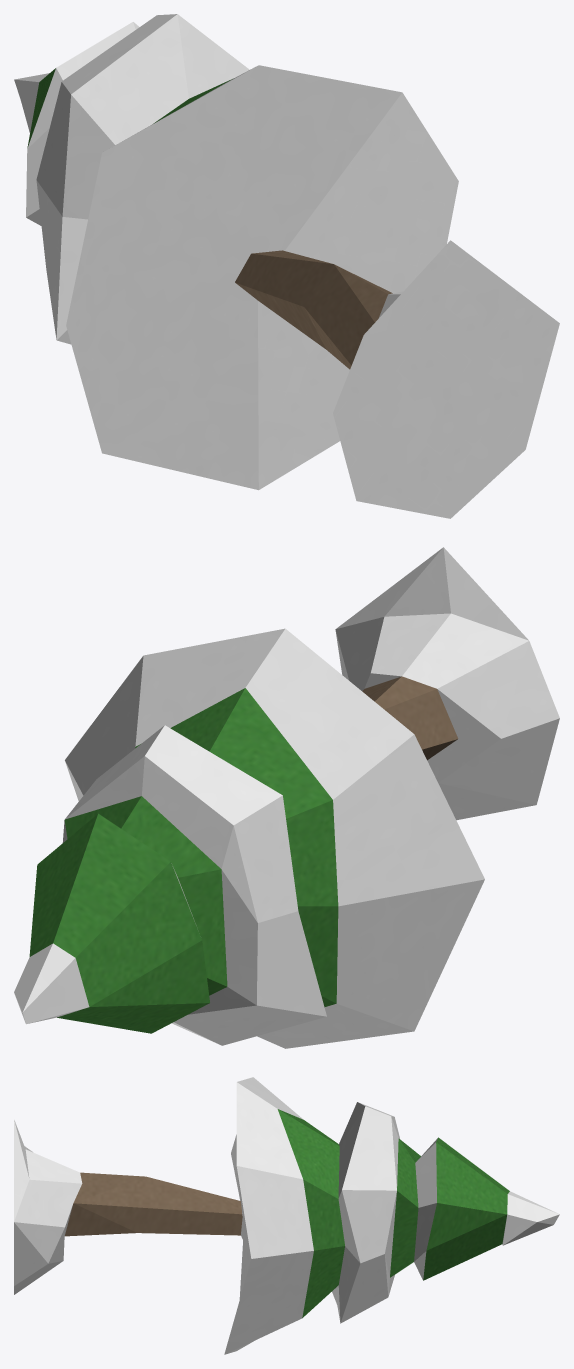
File: ice_share_tree_1.FBX
3 renders of one model, top to bottom at view 1: azimuth 30°, elevation 25°; view 2: azimuth 150°, elevation 25°; view 3: azimuth 270°, elevation 25°, orthographic. The views are drawn at different scales.
Parts seen in each view (by area): view 1: winter_tree_1; view 2: winter_tree_1; view 3: winter_tree_1.
Part boxes in pixels (x1,y1,x2,y2): winter_tree_1: (14,14,559,518); winter_tree_1: (14,547,559,1048); winter_tree_1: (14,1077,559,1354).
Bounding box in the file's own units: 78.78 × 78.24 × 144.
